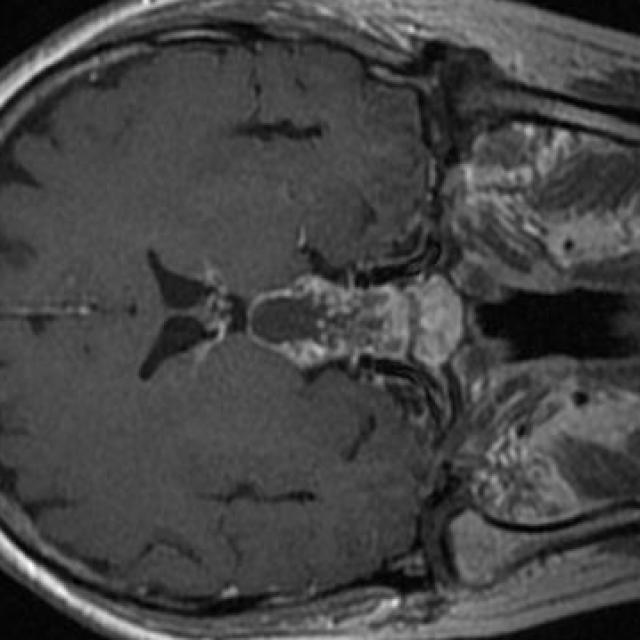pituitary: (246, 280, 410, 369)
